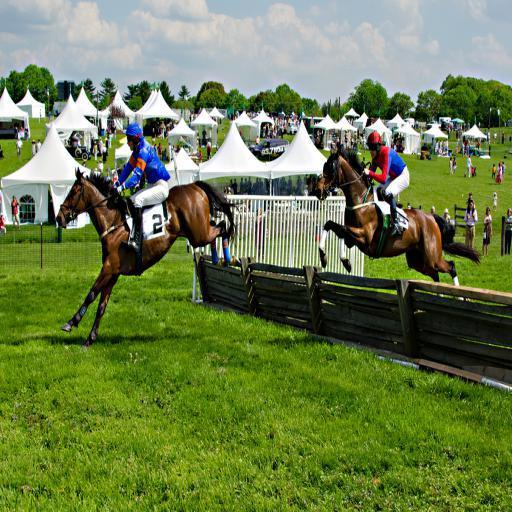horse: (54, 168, 238, 354), (312, 142, 484, 305)
